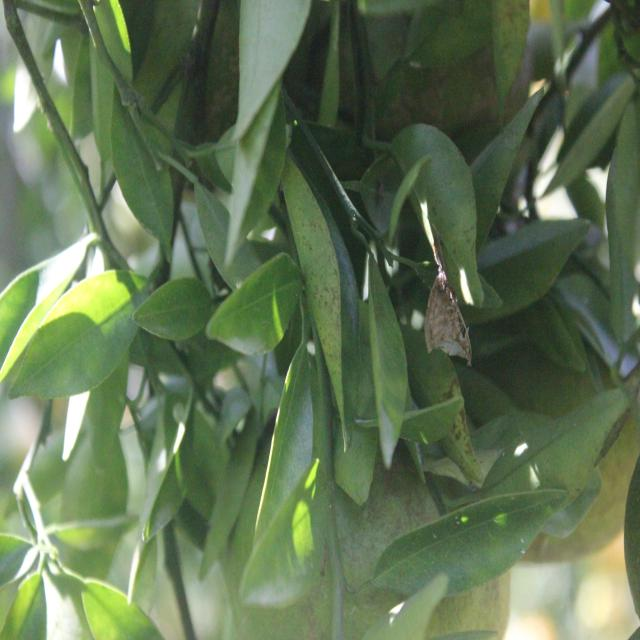melanose: (283, 174, 366, 438)
